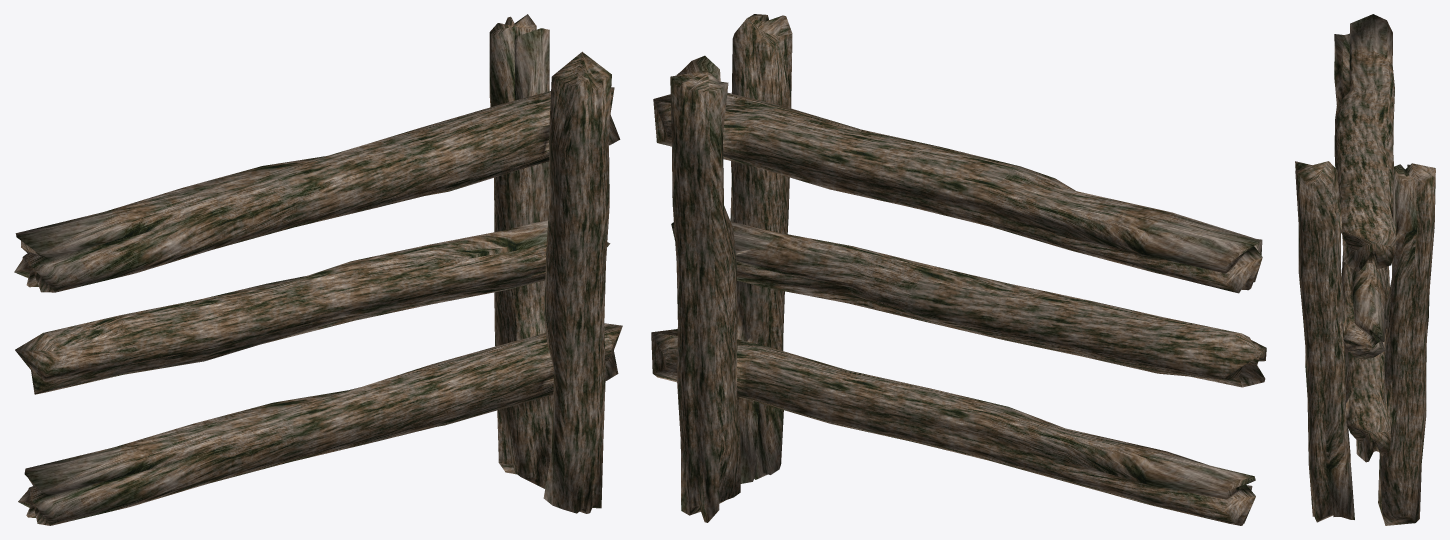
Rendered from Bark_Fence_OneMesh.fbx.
The picture shows the model from 3 angles, left to right: view 1: azimuth 30°, elevation 25°; view 2: azimuth 150°, elevation 25°; view 3: azimuth 270°, elevation 25°; orthographic projection. The views are drawn at different scales.
Parts seen in each view (by area): view 1: Cube.001; view 2: Cube.001; view 3: Cube.001.
Boxes of the visible parts, bbox=[...] form: Cube.001: bbox=[14, 14, 622, 525]; Cube.001: bbox=[651, 14, 1266, 525]; Cube.001: bbox=[1295, 14, 1435, 525].
Bounding box in the file's own units: 559 × 407 × 142.
